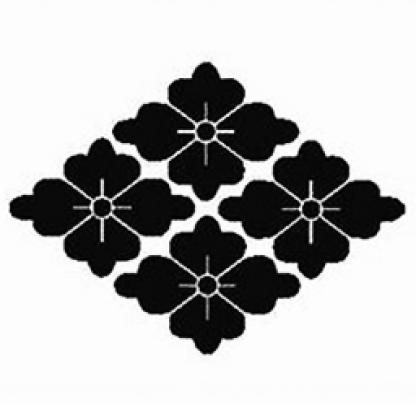kamon: (8, 59, 408, 359)
